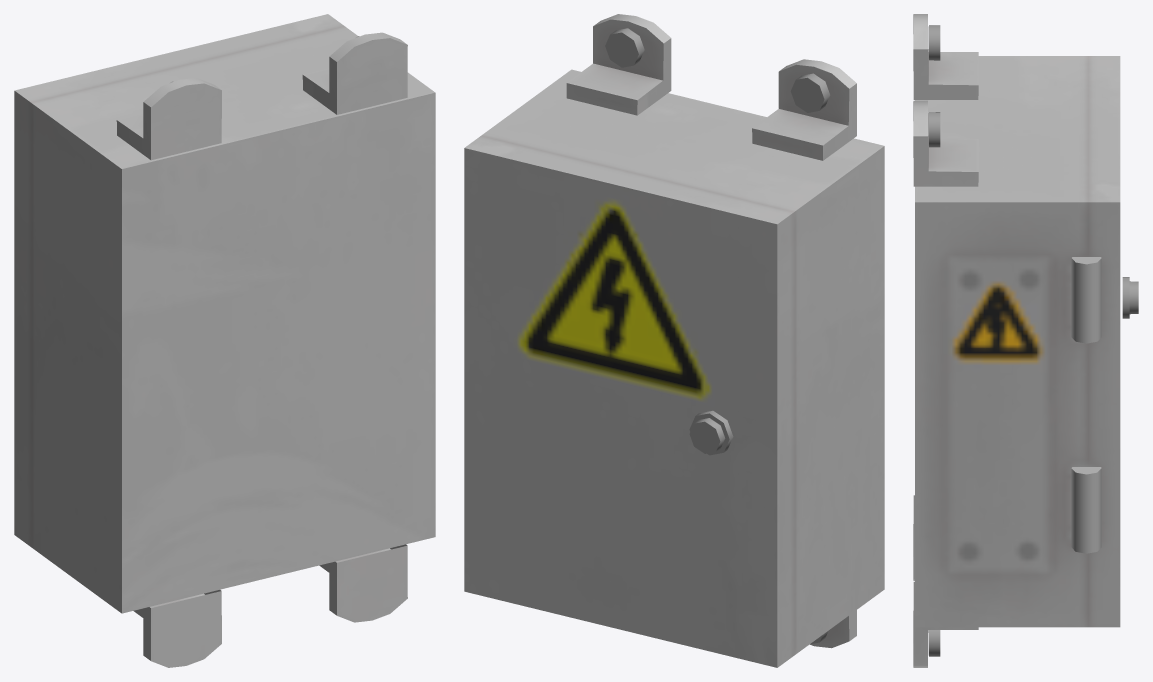
Rendered from Pfb_ElectricBox__2.fbx.
The picture shows the model from 3 angles, left to right: view 1: azimuth 30°, elevation 25°; view 2: azimuth 150°, elevation 25°; view 3: azimuth 270°, elevation 25°; orthographic projection. The views are drawn at different scales.
Visible parts, largest first — view 1: Mat_ElectricBox_02; view 2: Mat_ElectricBox_02; view 3: Mat_ElectricBox_02.
Boxes of the visible parts, box(x1,y1,x2,y2) form: Mat_ElectricBox_02: box(14, 14, 435, 667); Mat_ElectricBox_02: box(464, 14, 884, 667); Mat_ElectricBox_02: box(913, 14, 1138, 667).
Bounding box in the file's own units: 0.5643 × 0.9496 × 0.3491.
Materials: 1 (1 with a texture image).
